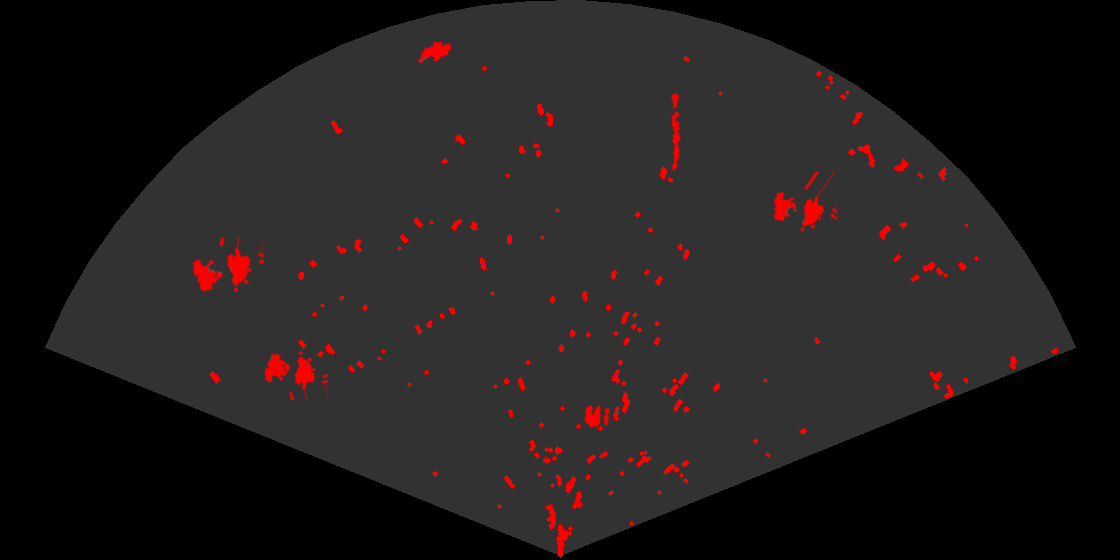AUV: (416, 40, 454, 65)
ball: (583, 403, 611, 429)
cage: (191, 238, 264, 294), (772, 172, 837, 234), (263, 349, 328, 400)
chain: (669, 92, 682, 172)
